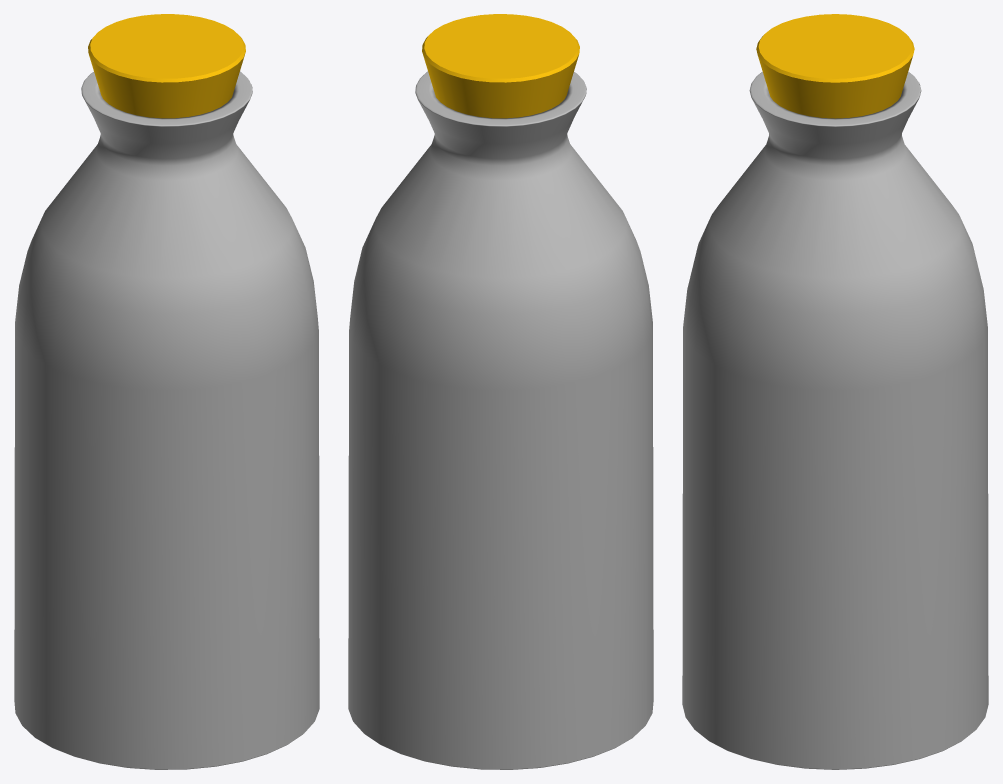
File: inkBottle_3.fbx
3 renders of one model, left to right at view 1: azimuth 30°, elevation 25°; view 2: azimuth 150°, elevation 25°; view 3: azimuth 270°, elevation 25°, orthographic.
Visible parts, largest first — view 1: polySurface5, polySurface6; view 2: polySurface5, polySurface6; view 3: polySurface5, polySurface6.
Boxes of the visible parts, bbox=[...] form: polySurface5: bbox=[14, 71, 319, 769]; polySurface6: bbox=[88, 14, 245, 118]; polySurface5: bbox=[348, 71, 653, 769]; polySurface6: bbox=[422, 14, 579, 118]; polySurface5: bbox=[682, 72, 988, 769]; polySurface6: bbox=[756, 14, 914, 118].
Bounding box in the file's own units: 226 × 539 × 226.
